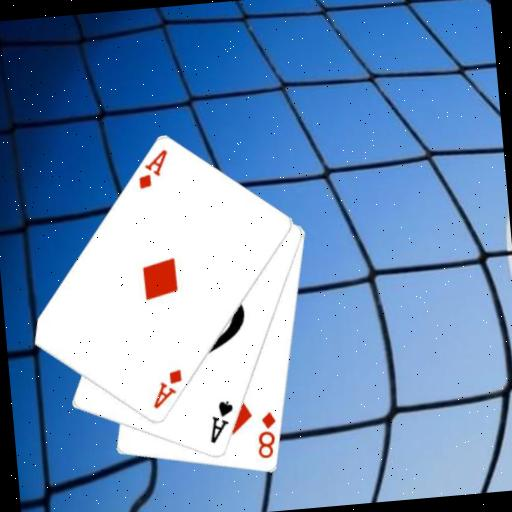8D: (252, 408, 281, 462)
AD: (147, 366, 187, 412), (133, 146, 173, 192)
AS: (204, 398, 238, 446)
